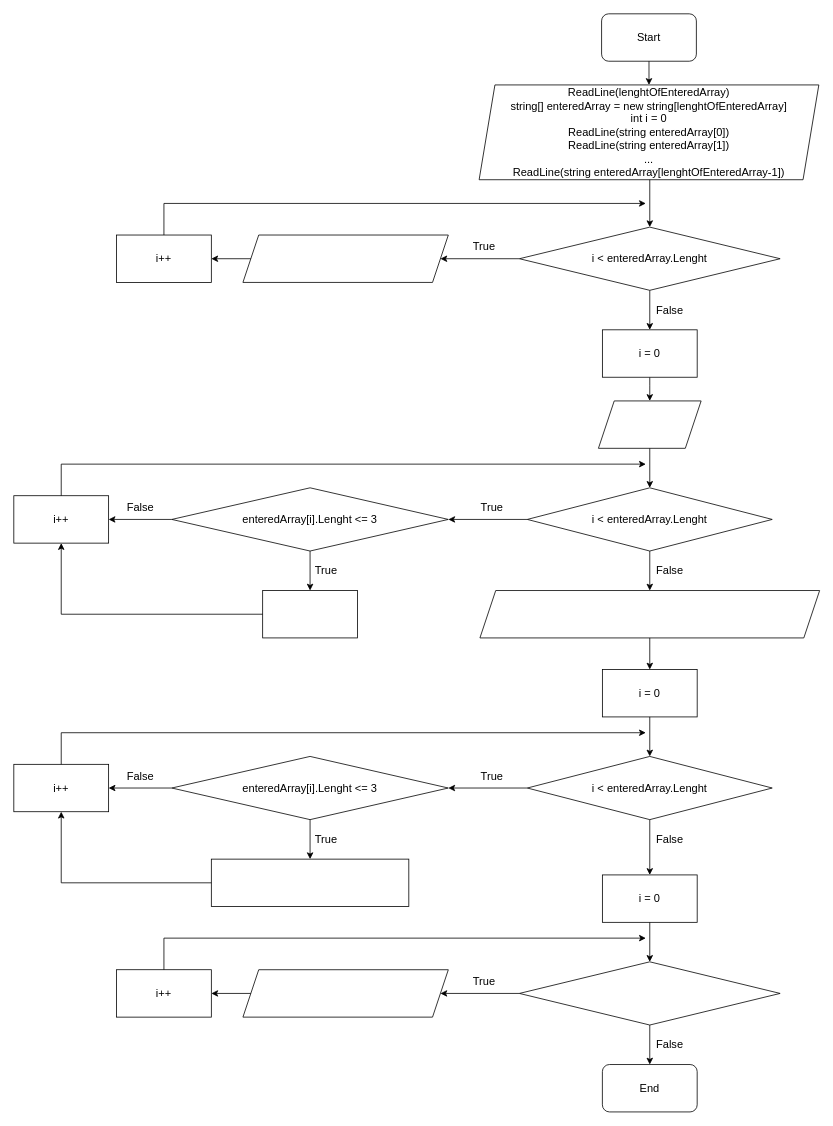
Some shapes in this 833 by 1126 pixel diagram are drawn without their labels. The centre of each missing label's shape, as x and y in pixels:
count++: pixel 309 614
i < resultArray.Lenght: pixel 649 993
int count = 0: pixel 649 424
ReadLine(string enteredArray[i]): pixel 345 258
resultArray[j] = enteredArray[i] j++: pixel 310 882
string[] resultArray = new string[count] int j = 0: pixel 649 614
WriteLine(string enteredArray[i]): pixel 345 993
